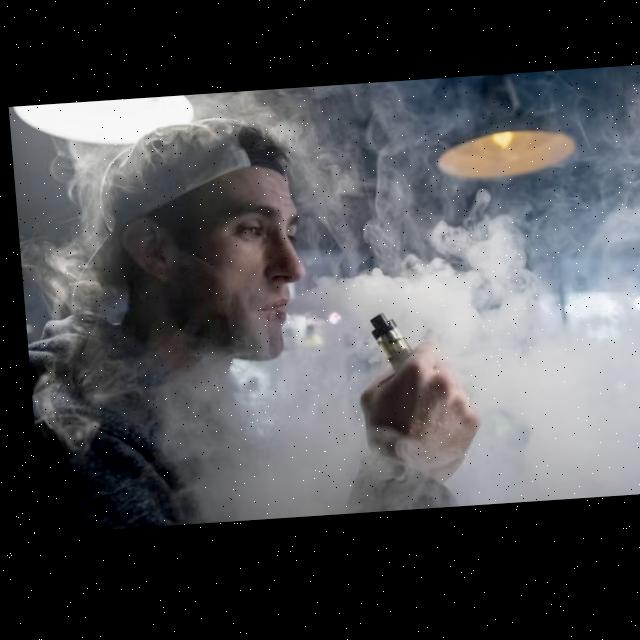vape: (365, 316, 408, 376)
